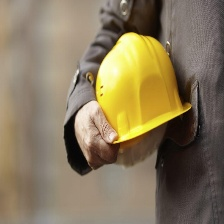helmet: (89, 31, 193, 145)
